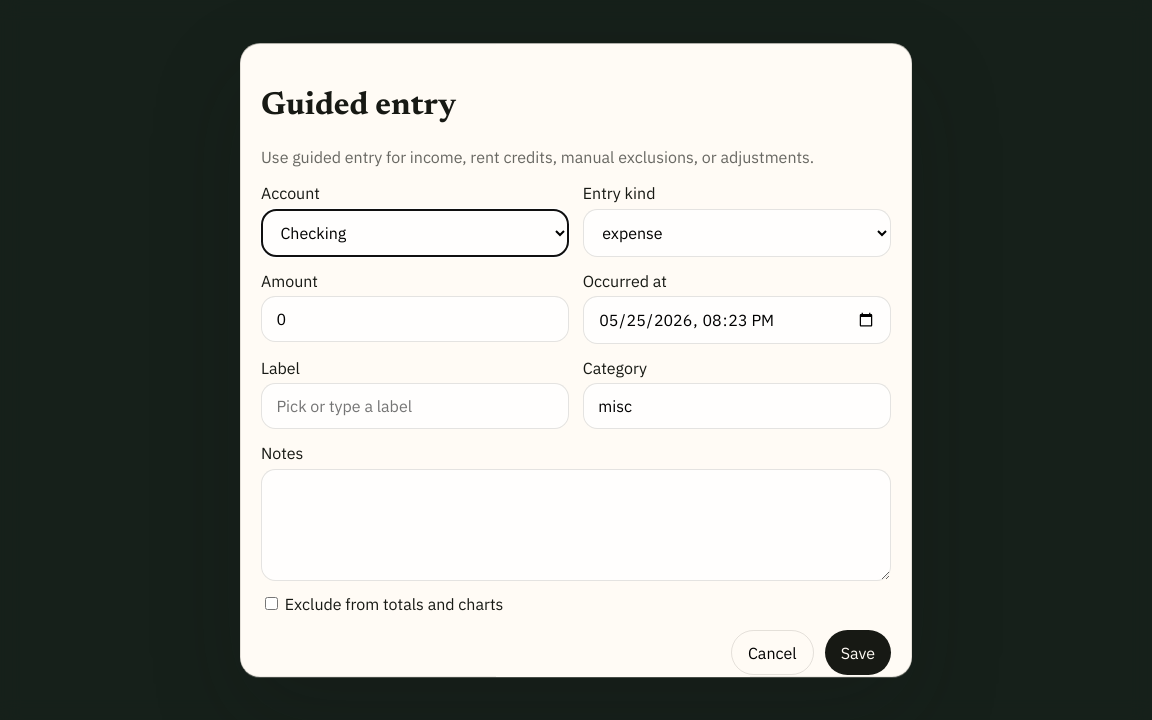
Test: EntryDialog › defaults income entries to income categories
This screenshot has width=1152, height=720.
Select "income" in the dropdown labelled "Entry kind". click: [737, 233]
box: left=583, top=209, right=891, bottom=257
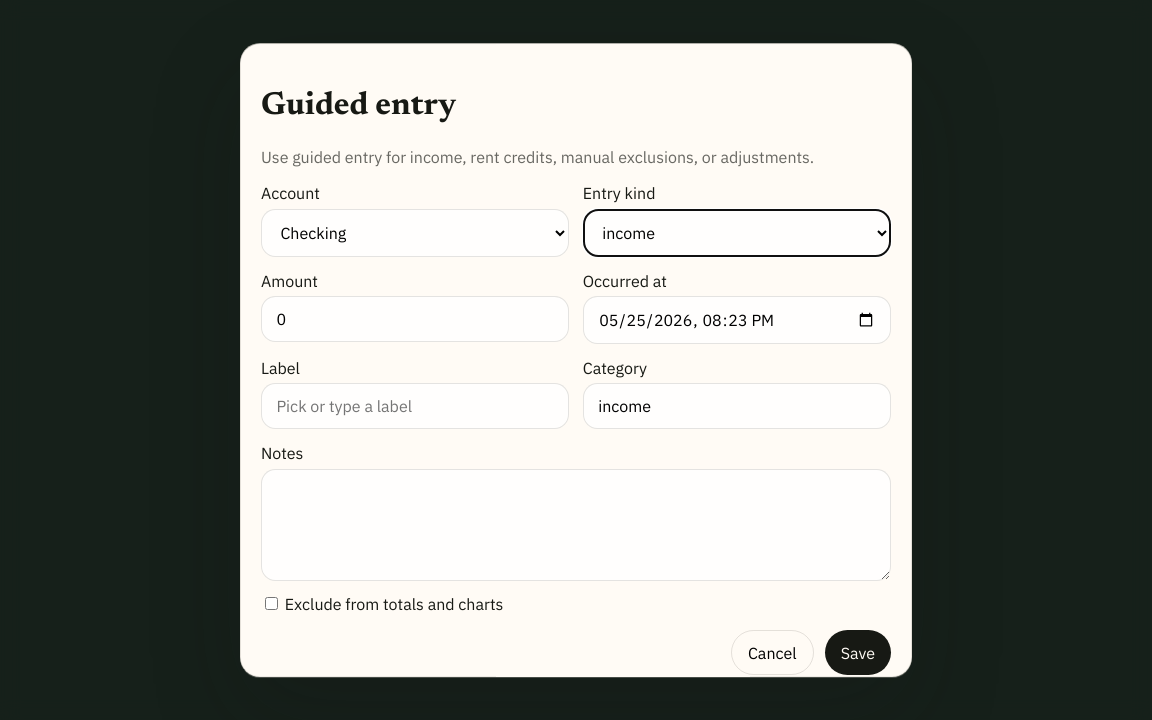
Check: the field with placeholder "Pick or type a category" holds "income", box left=583, top=384, right=891, bottom=430
